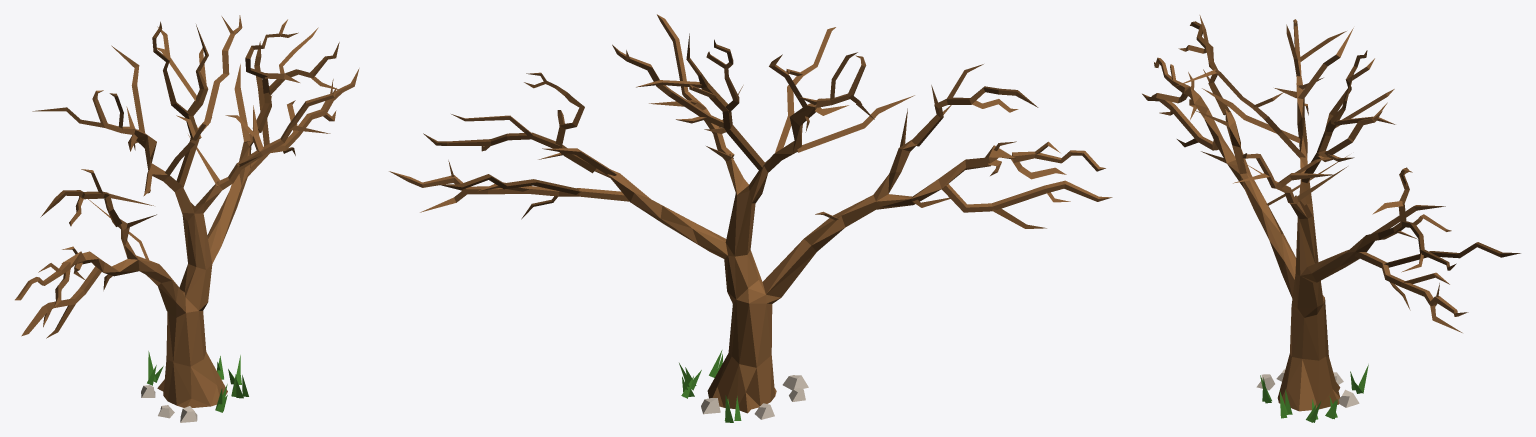
File: guayacan_2_bare.glb
3 views of the same model, side by side, from view 1: azimuth 30°, elevation 25°; view 2: azimuth 150°, elevation 25°; view 3: azimuth 270°, elevation 25° (orthographic). The views are drawn at different scales.
Parts seen in each view (by area): view 1: guayacan_2_bare; view 2: guayacan_2_bare; view 3: guayacan_2_bare.
Part boxes in pixels (x1,y1,x2,y2): guayacan_2_bare: (15, 15, 359, 422); guayacan_2_bare: (389, 14, 1112, 422); guayacan_2_bare: (1142, 15, 1520, 422).
Bounding box in the file's own units: 9.37 × 6.3 × 6.22.
